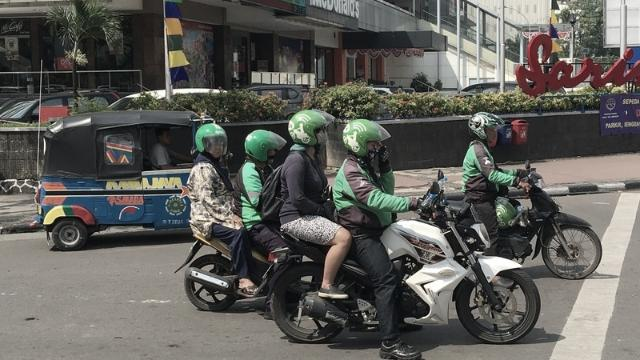helm: (342, 121, 391, 165), (289, 112, 337, 153), (246, 129, 288, 167), (467, 110, 509, 147), (195, 124, 232, 163)
motor: (268, 170, 544, 354), (180, 214, 377, 316), (452, 165, 603, 280)
